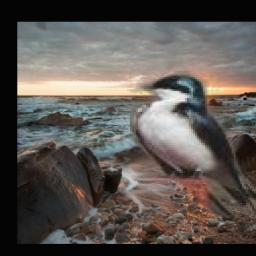Swallow: (128, 72, 256, 219)
